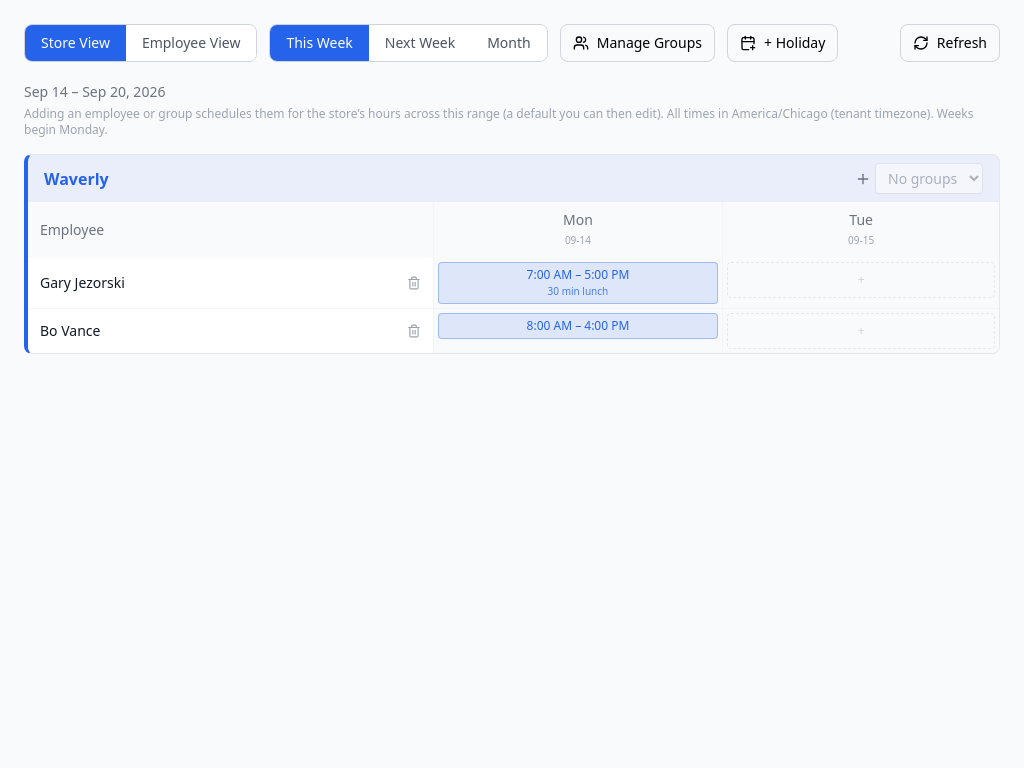
Test: Unpaid lunch on the schedule › shows a configured lunch on the chip and seeds the editor with it
This screenshot has width=1024, height=768.
Expected: the text "30 min lunch" is shown, [548,284,608,298]
What coordinates should you click on to do the following:
click the button "7:00 AM – 5:00 PM 30 min lunch"
I would click on:
 (578, 283)
Its box is [438,262,718,304].
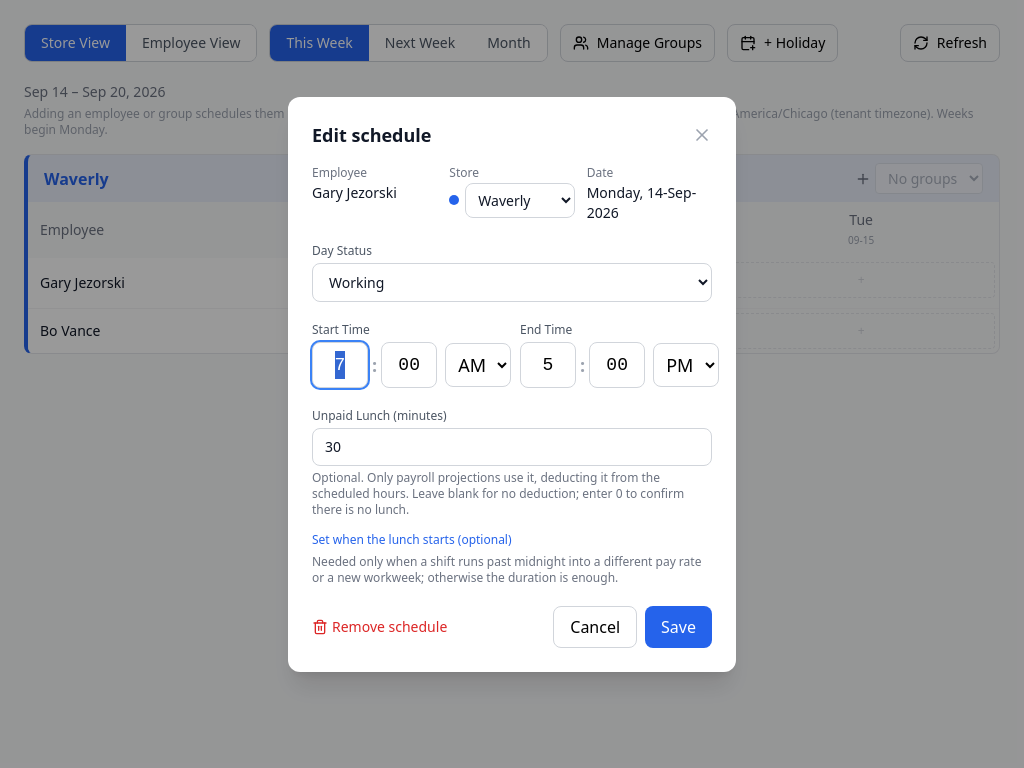
Now the number field labelled "Unpaid Lunch (minutes)" holds "30", box [312,428,712,466]
